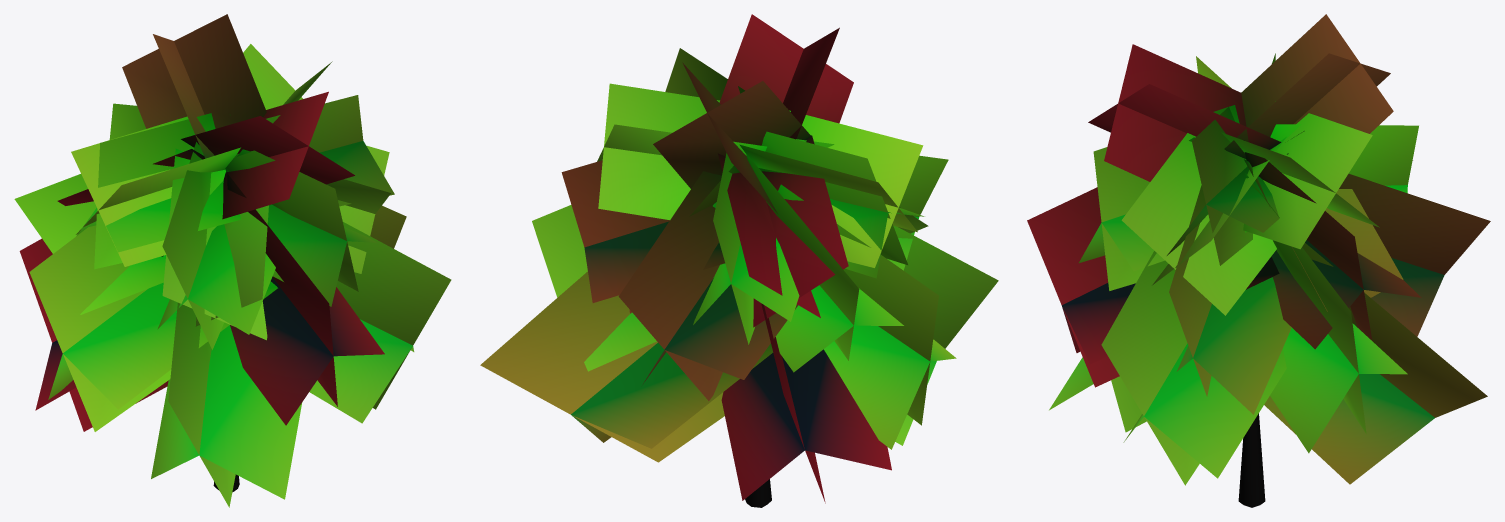
Rendered from Super_11_1.fbx.
3 views of the same model, side by side, from view 1: azimuth 30°, elevation 25°; view 2: azimuth 150°, elevation 25°; view 3: azimuth 270°, elevation 25° (orthographic). The views are drawn at different scales.
Parts seen in each view (by area): view 1: Super_11_1; view 2: Super_11_1; view 3: Super_11_1.
Boxes of the visible parts, left/top/right/bottom form: Super_11_1: left=14, top=14, right=451, bottom=507; Super_11_1: left=480, top=14, right=998, bottom=507; Super_11_1: left=1027, top=14, right=1490, bottom=507.
Bounding box in the file's own units: 1473 × 1730 × 1557.
